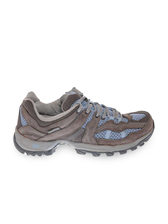shoes: (9, 86, 155, 158)
